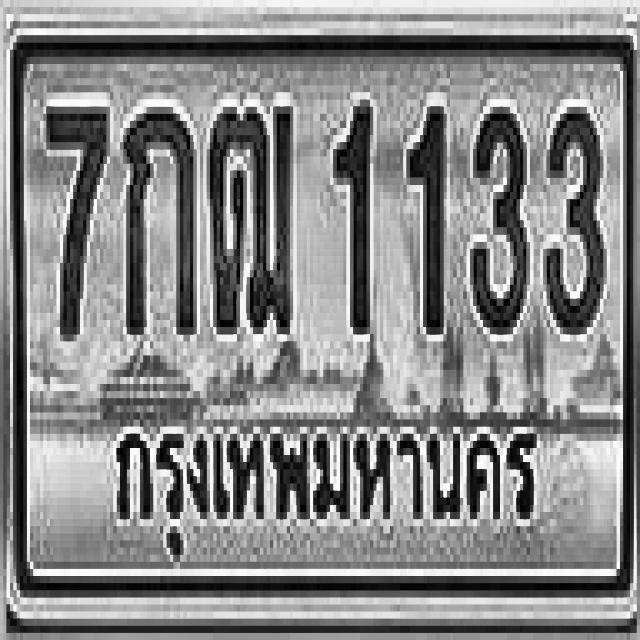license-plate: (15, 37, 629, 600)
